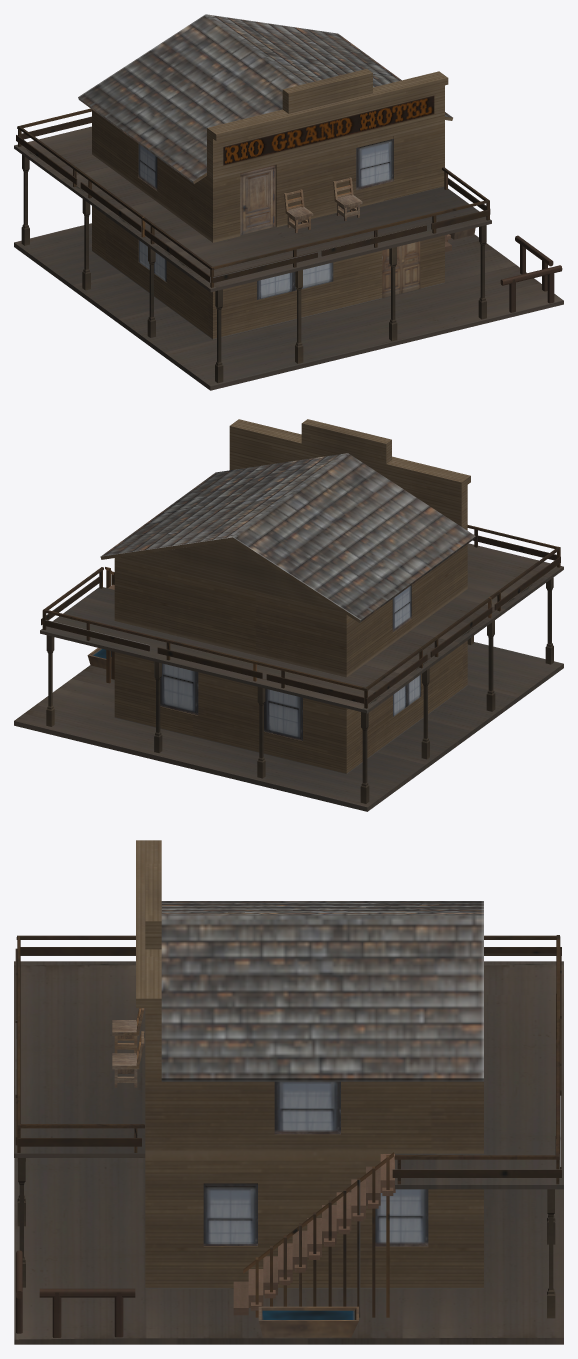
File: hotel.fbx
3 views of the same model, one above another, from view 1: azimuth 30°, elevation 25°; view 2: azimuth 150°, elevation 25°; view 3: azimuth 270°, elevation 25° (orthographic). The views are drawn at different scales.
Visible parts, largest first — view 1: main building; view 2: main building; view 3: main building.
Part boxes in pixels (bbox=[...]): main building: bbox=[14, 14, 563, 390]; main building: bbox=[14, 419, 563, 811]; main building: bbox=[14, 840, 563, 1344].
Size of the model in its own units: 117 by 113 by 73.58.
1 material, 1 textured.
